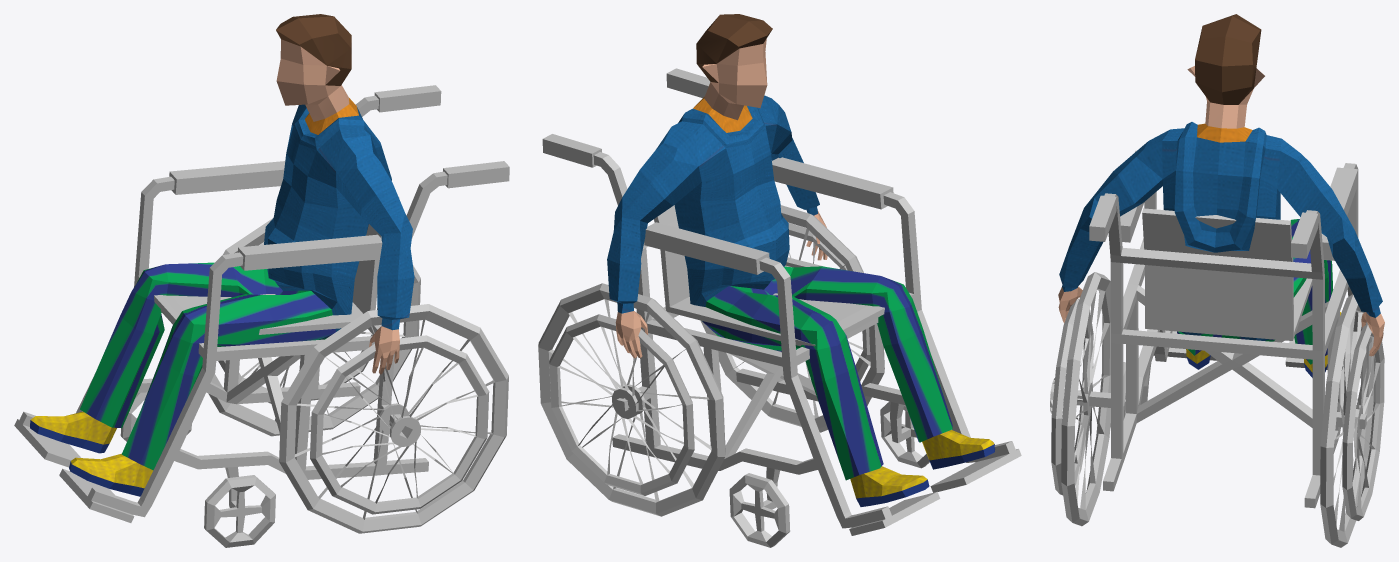
File: Disabled People12.fbx
The picture shows the model from 3 angles, left to right: view 1: azimuth 30°, elevation 25°; view 2: azimuth 150°, elevation 25°; view 3: azimuth 270°, elevation 25°; orthographic projection. The views are drawn at different scales.
Parts seen in each view (by area): view 1: OfficeManA.002; view 2: OfficeManA.002; view 3: OfficeManA.002.
Part boxes in pixels (x1,y1,x2,y2): OfficeManA.002: (14, 14, 509, 547); OfficeManA.002: (538, 14, 1021, 547); OfficeManA.002: (1050, 14, 1384, 547).
Bounding box in the file's own units: 115 × 125 × 77.5.
